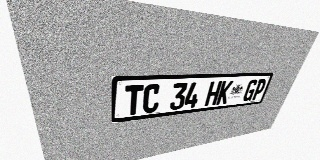3: (169, 83, 188, 110)
4: (183, 82, 202, 109)
C: (142, 84, 161, 114)
G: (242, 79, 259, 102)
H: (204, 81, 222, 106)
K: (216, 80, 234, 105)
P: (251, 79, 268, 101)
T: (124, 85, 144, 116)
